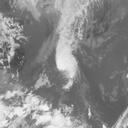cyclone: (54, 52, 79, 86)
